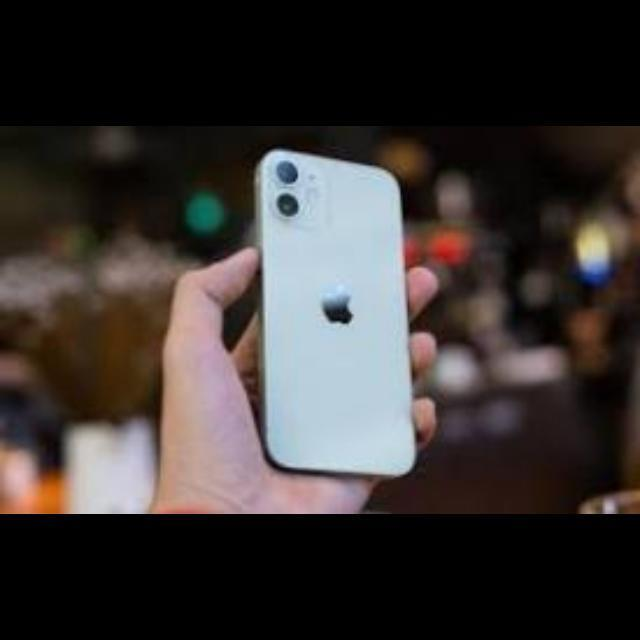phone: (236, 142, 414, 480)
